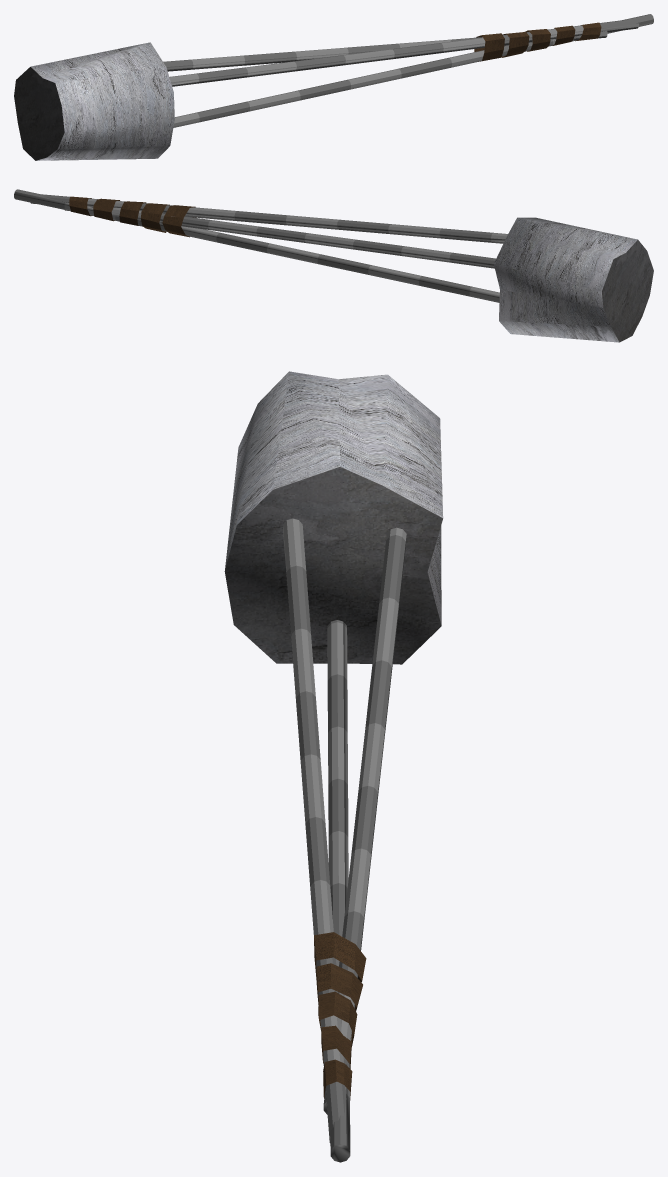
File: WorldItem_RebarClub.fbx
The picture shows the model from 3 angles, top to bottom: view 1: azimuth 30°, elevation 25°; view 2: azimuth 150°, elevation 25°; view 3: azimuth 270°, elevation 25°; orthographic projection. The views are drawn at different scales.
Parts seen in each view (by area): view 1: ZomboidRebarClub; view 2: ZomboidRebarClub; view 3: ZomboidRebarClub.
Part boxes in pixels (x1,y1,x2,y2): ZomboidRebarClub: (14, 14, 653, 160); ZomboidRebarClub: (14, 189, 653, 342); ZomboidRebarClub: (224, 371, 443, 1162).
Bounding box in the file's own units: 0.9967 × 0.1613 × 0.1531.
